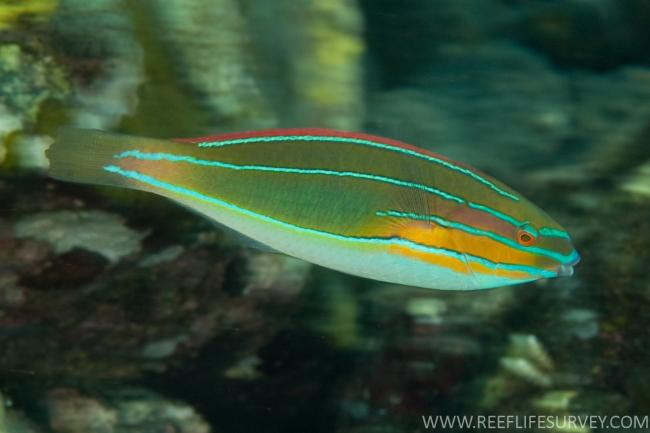fish: (46, 125, 581, 291)
